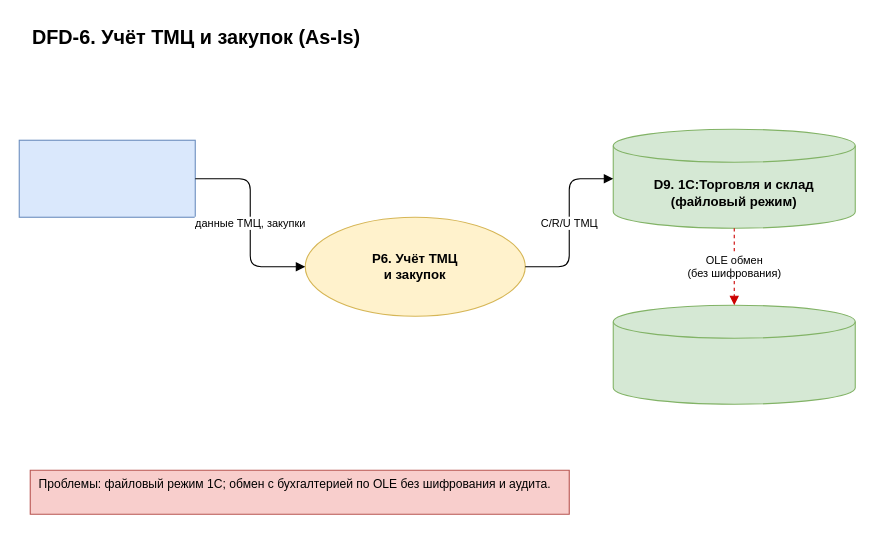
Some shapes in this 875 by 534 pixel diagram are drawn without their labels. The centre of each missing label's shape, as x and y in pixels:
D7. 1С:Бухгалтерия (файловый режим): (733,354)
Кладовщик: (106,178)
